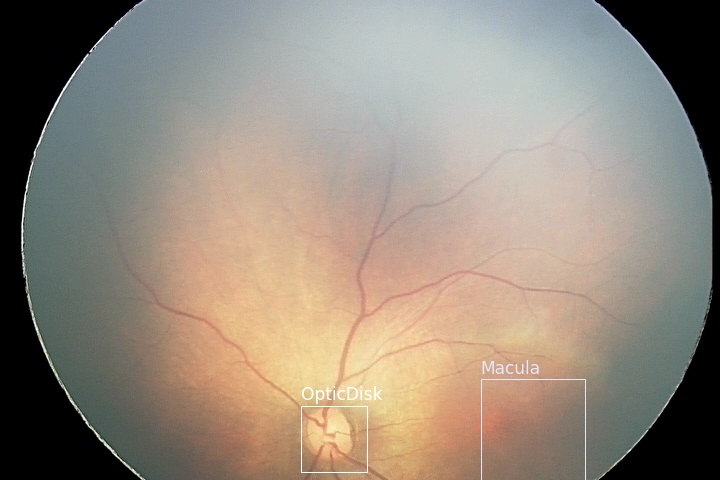Macula: (480, 378, 584, 480)
OpticDisk: (300, 405, 366, 471)
